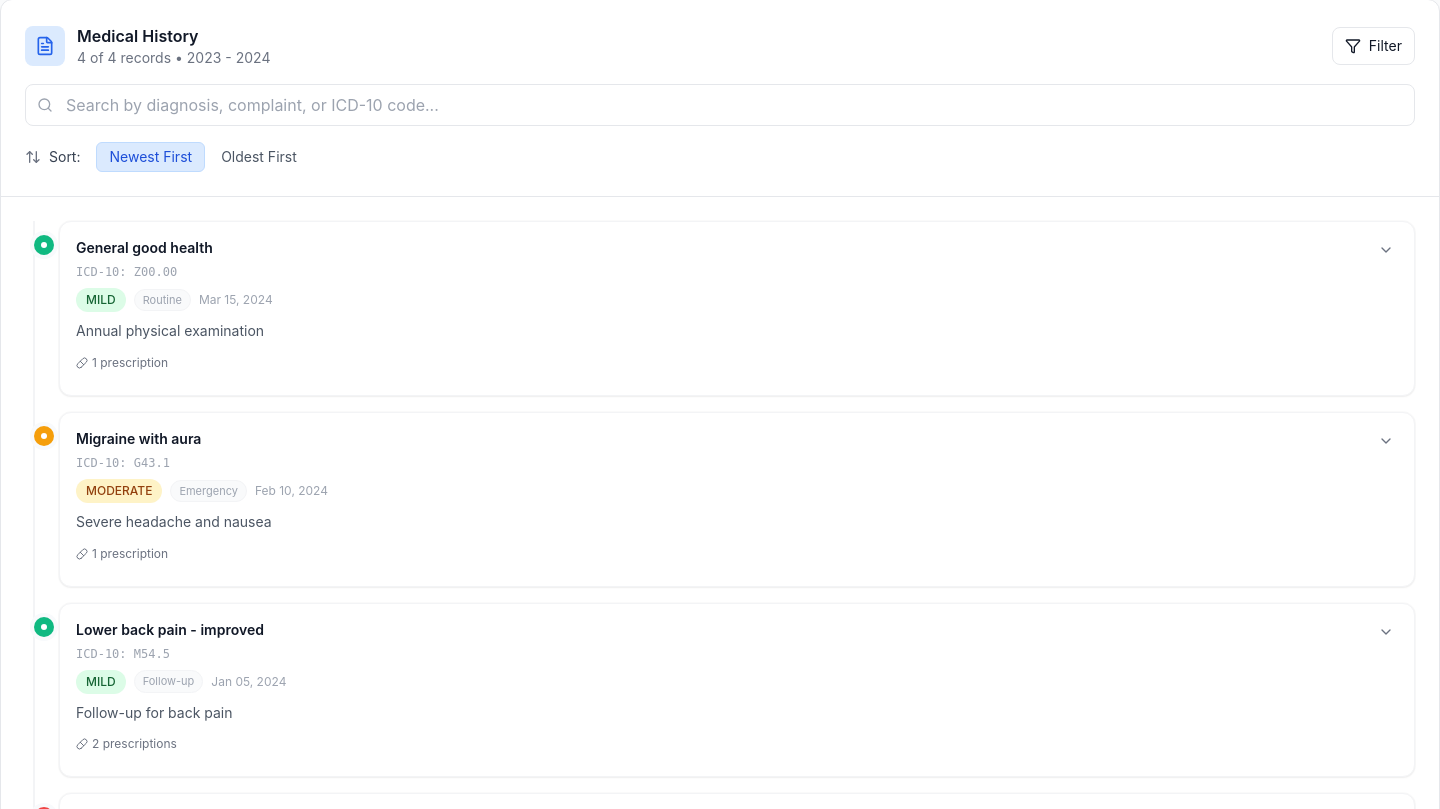
Test case: MedicalHistoryTimeline › Filtering Controls › Visit Type Filter › can select multiple visit types
What coordinates should you click on to do the following:
click the button "Filter"
I would click on:
 (1373, 46)
Its box is [1332,27,1415,65].
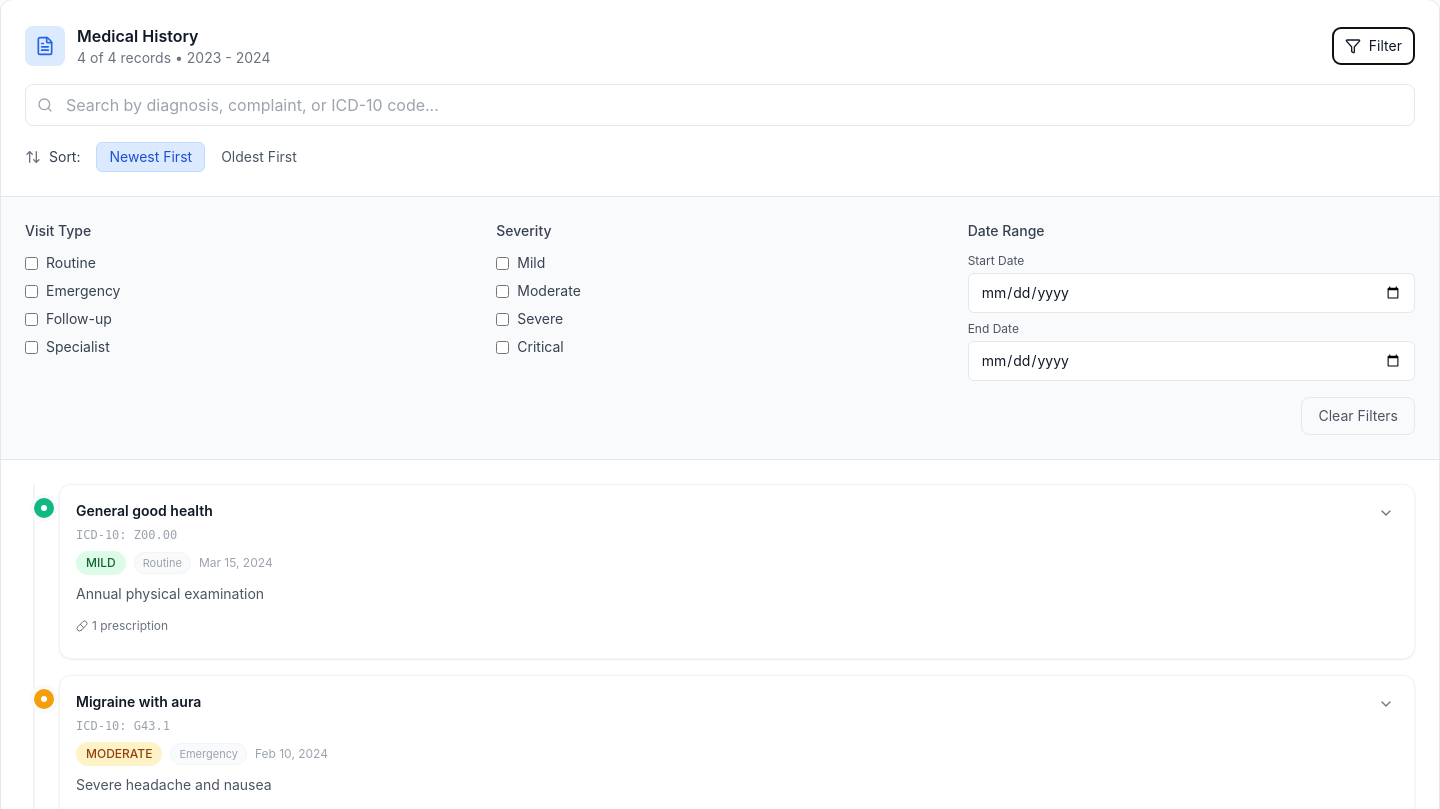
What coordinates should you click on to do the following:
click the checkbox labelled "Routine"
I would click on:
 (32, 263)
Its box is [25,256,38,270].
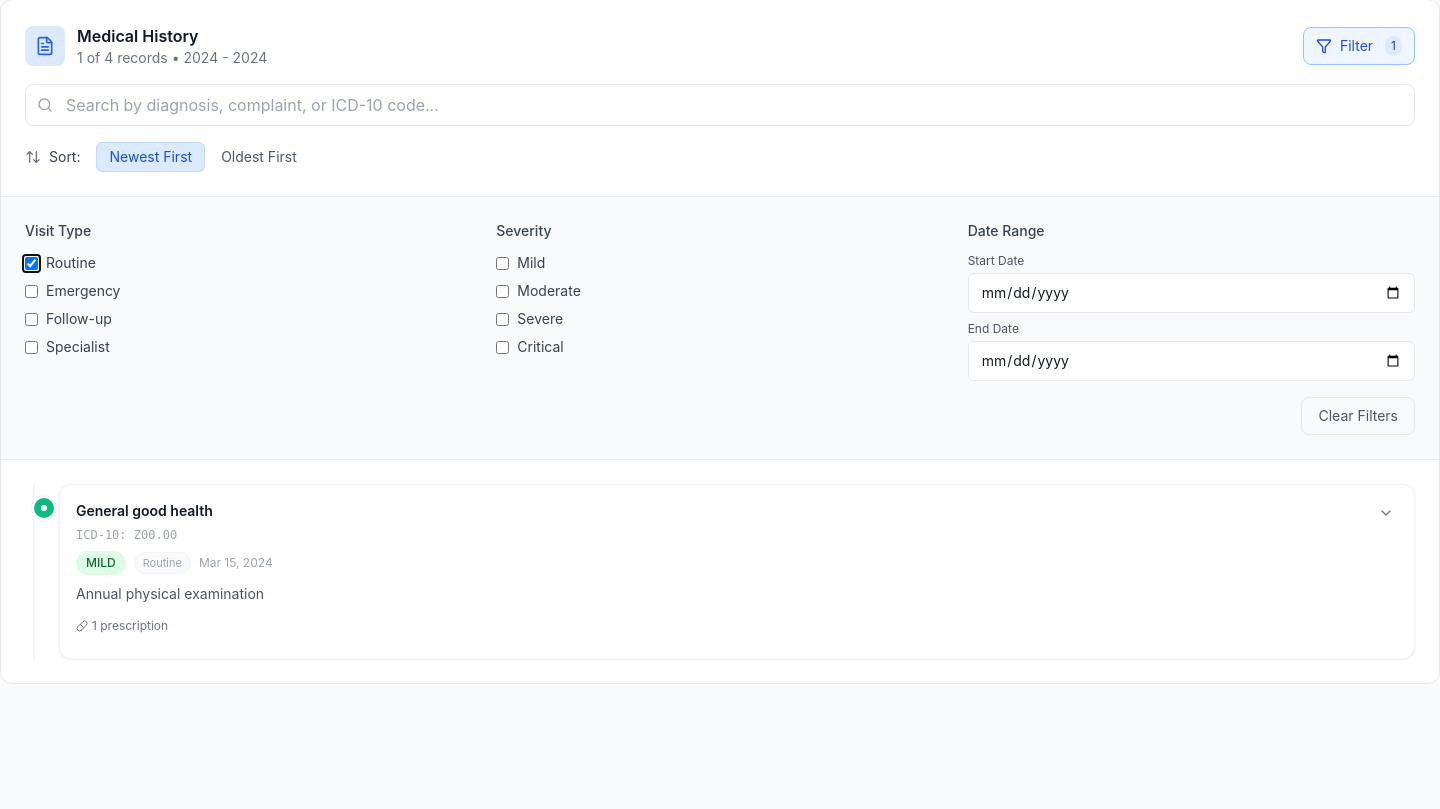
What coordinates should you click on to do the following:
click the checkbox labelled "Follow-up"
I would click on:
 (32, 319)
Its box is [25,312,38,326].
(page scrolled)
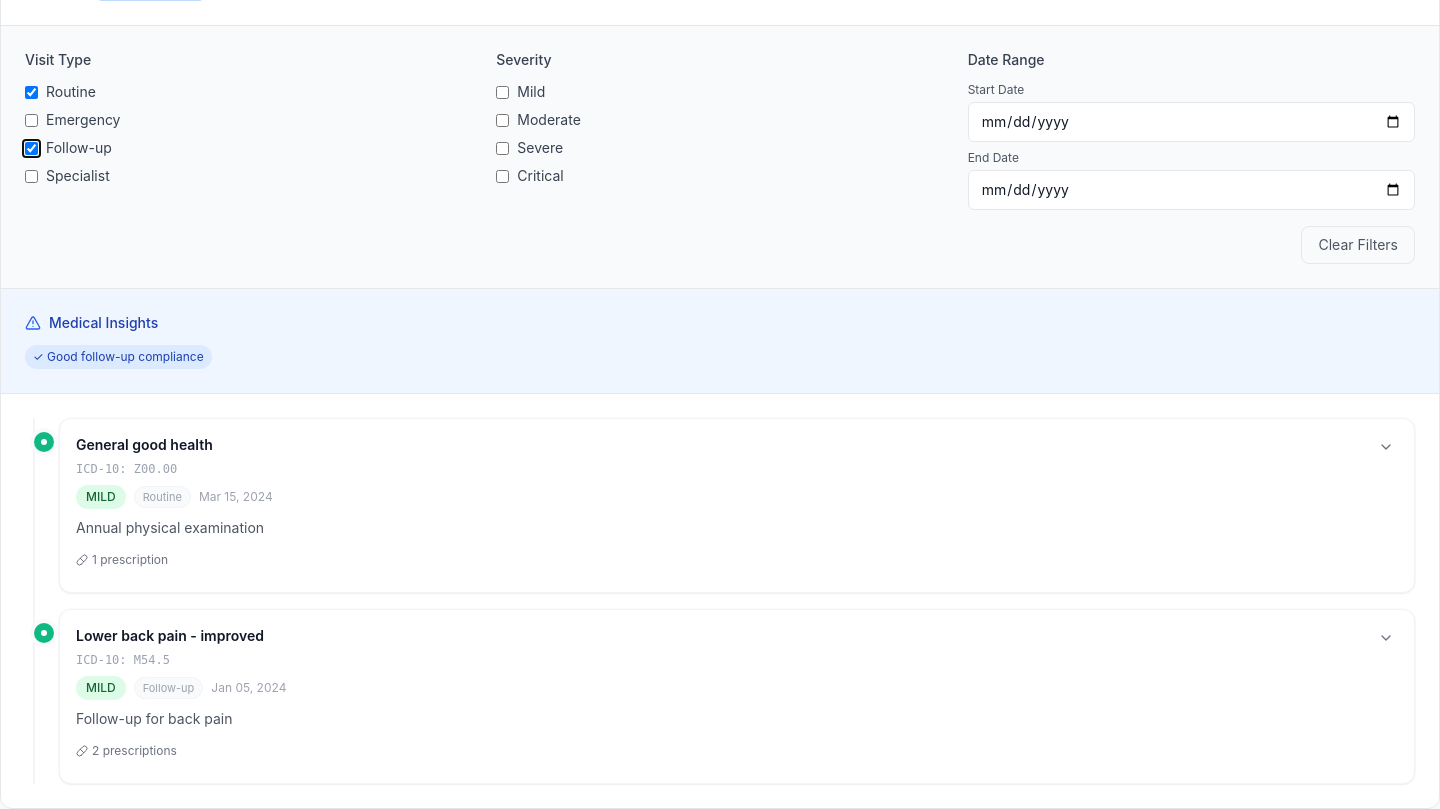
Expected: the heading "General good health" is shown, [76,435,213,455]
Result: the heading "Lower back pain - improved" is shown at [76,626,264,646]
